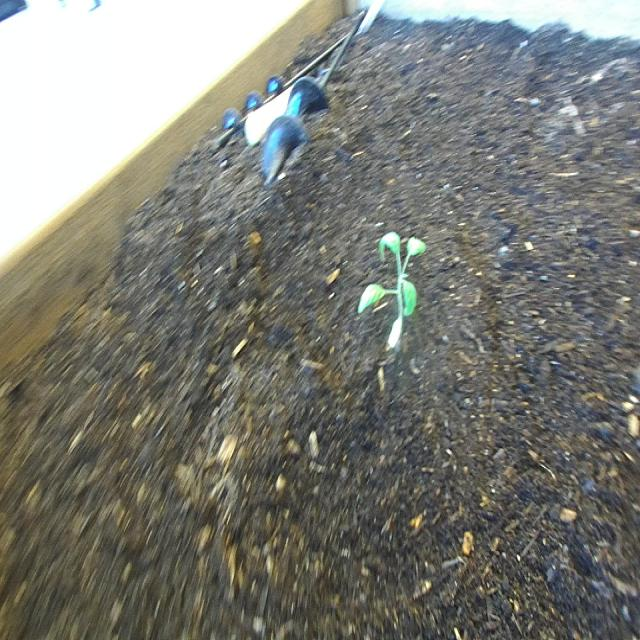Unhealthy: (353, 225, 431, 362)
